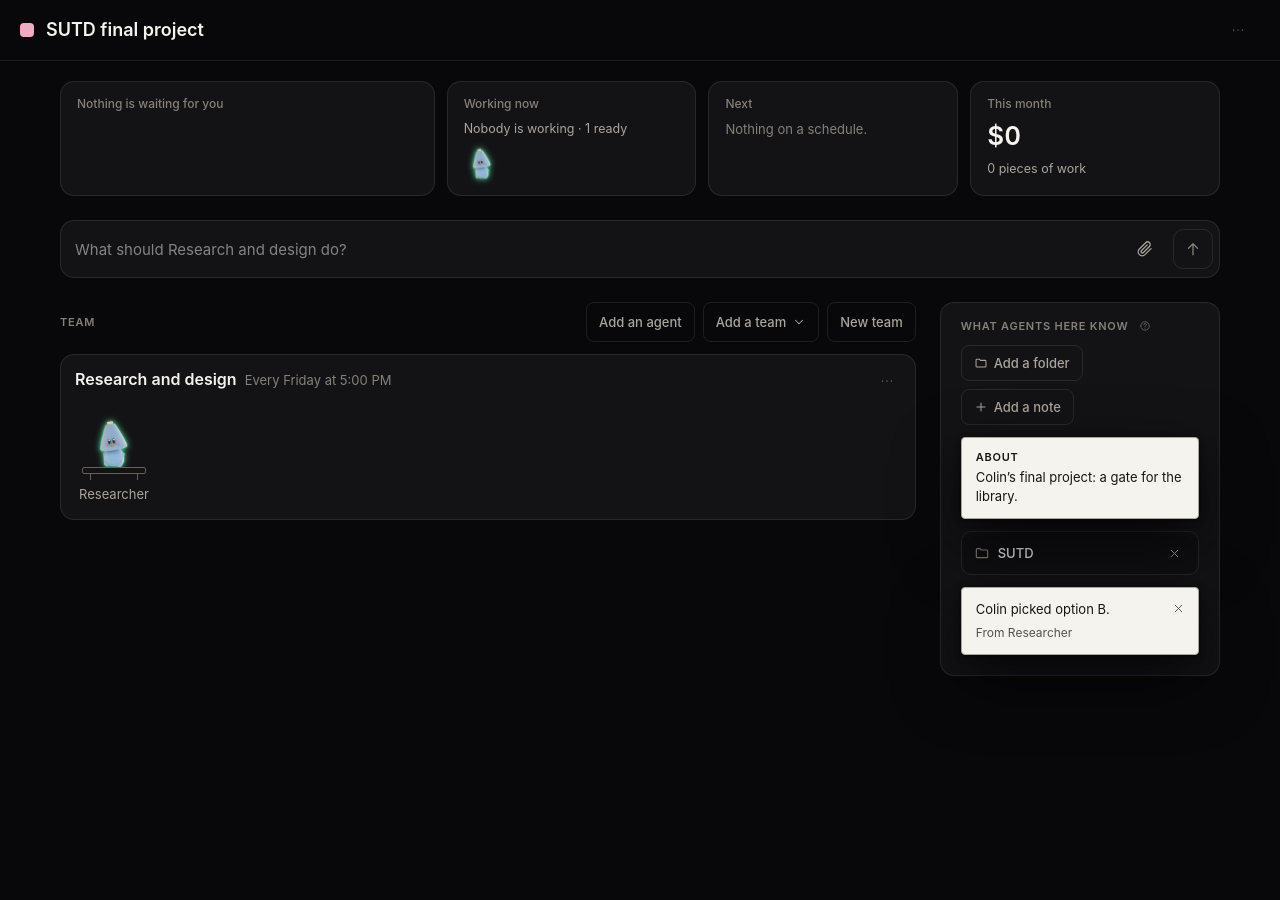
Test: a project’s room (ADR 0097) › adds one of your teams to this project: one in another project gets a place here, one in none moves in
The image size is (1280, 900).
Click the button "Add a team": {"x": 761, "y": 322} [703,302,819,342]
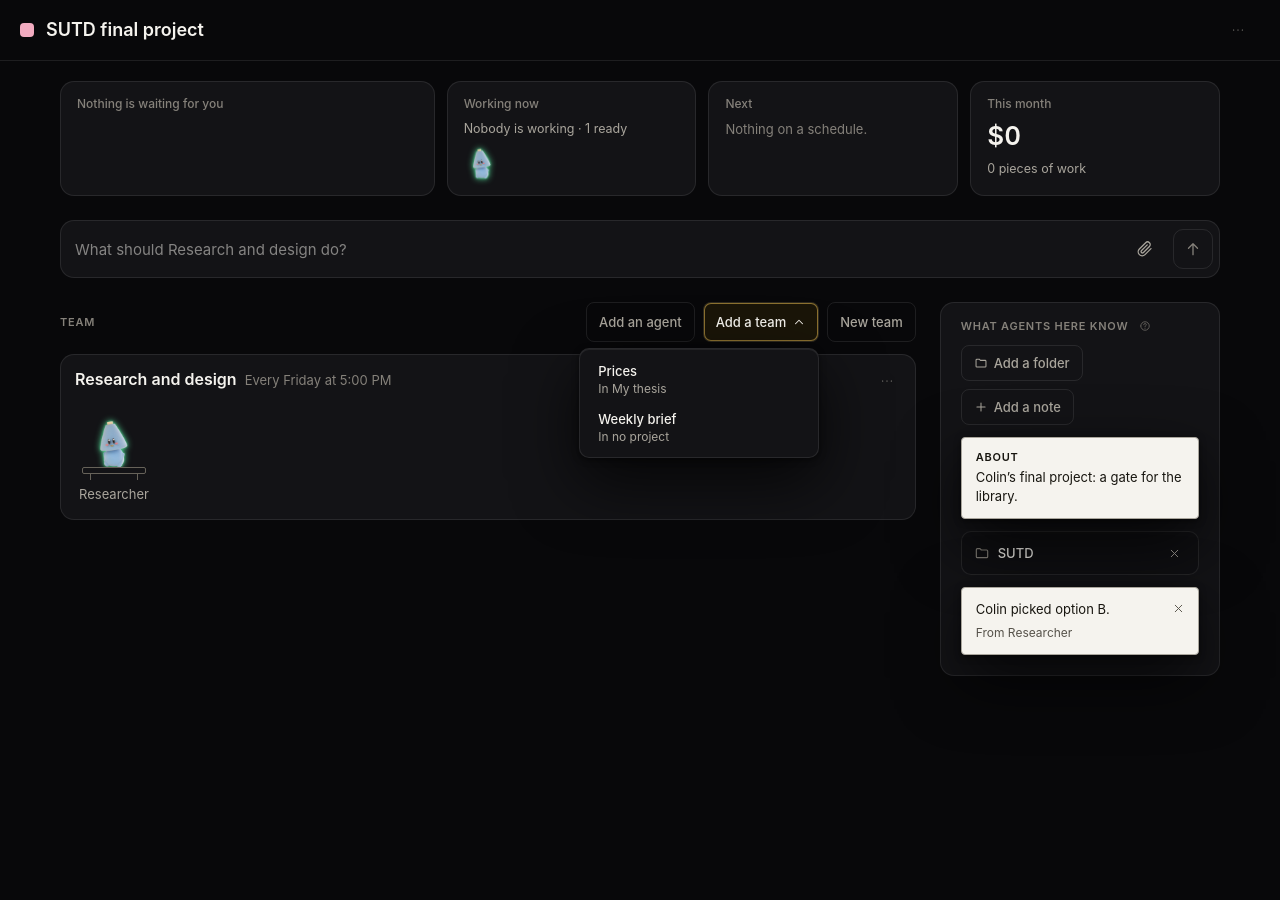
Result: the menu items read "PricesIn My thesis", "Weekly briefIn no project", in this order
Click the menu item "Prices In My thesis": {"x": 699, "y": 379} [586,355,812,403]
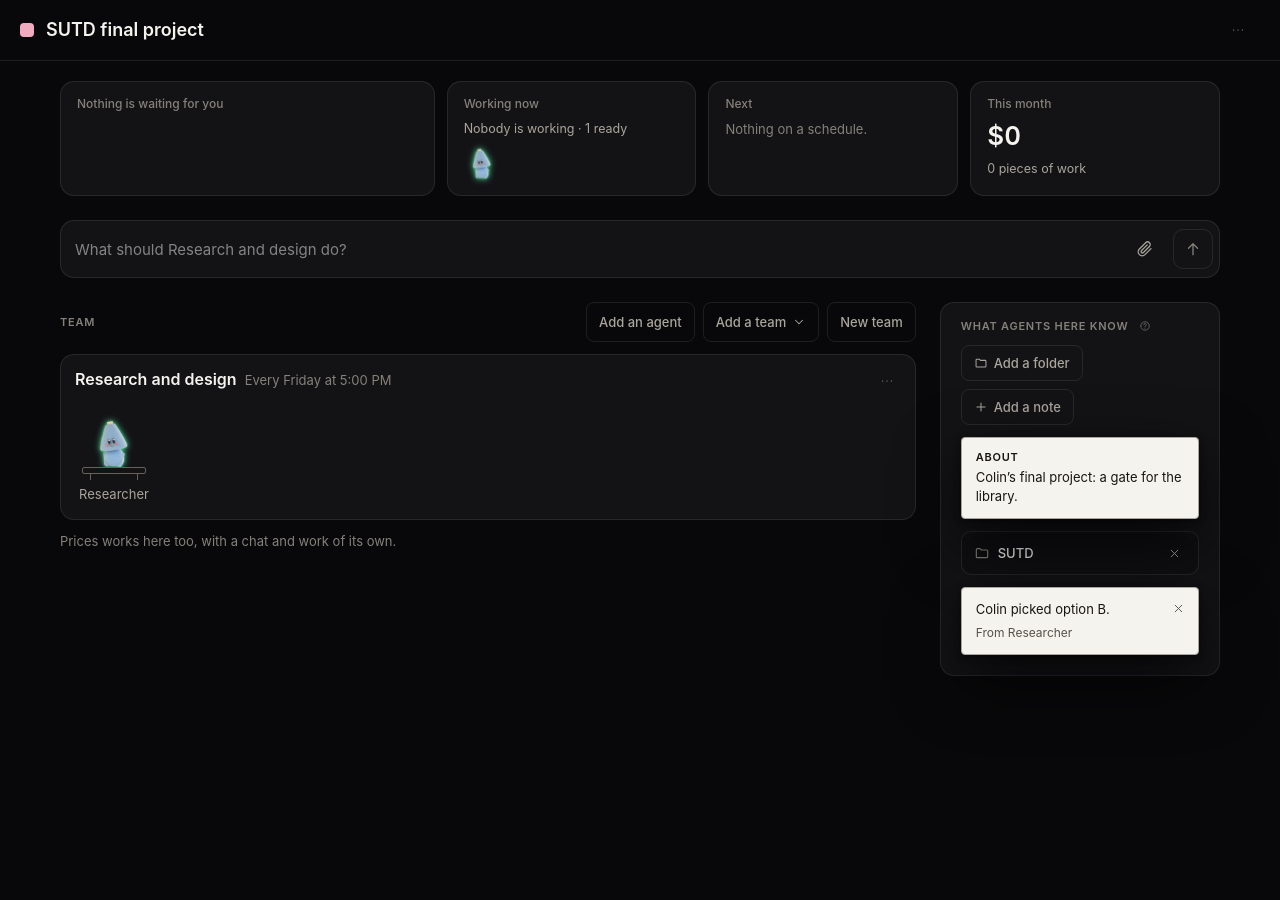
Result: the message reads "Prices works here too, with a chat and work of its own." at [60,532,396,548]
Click the button "Add a team": {"x": 761, "y": 322} [703,302,819,342]
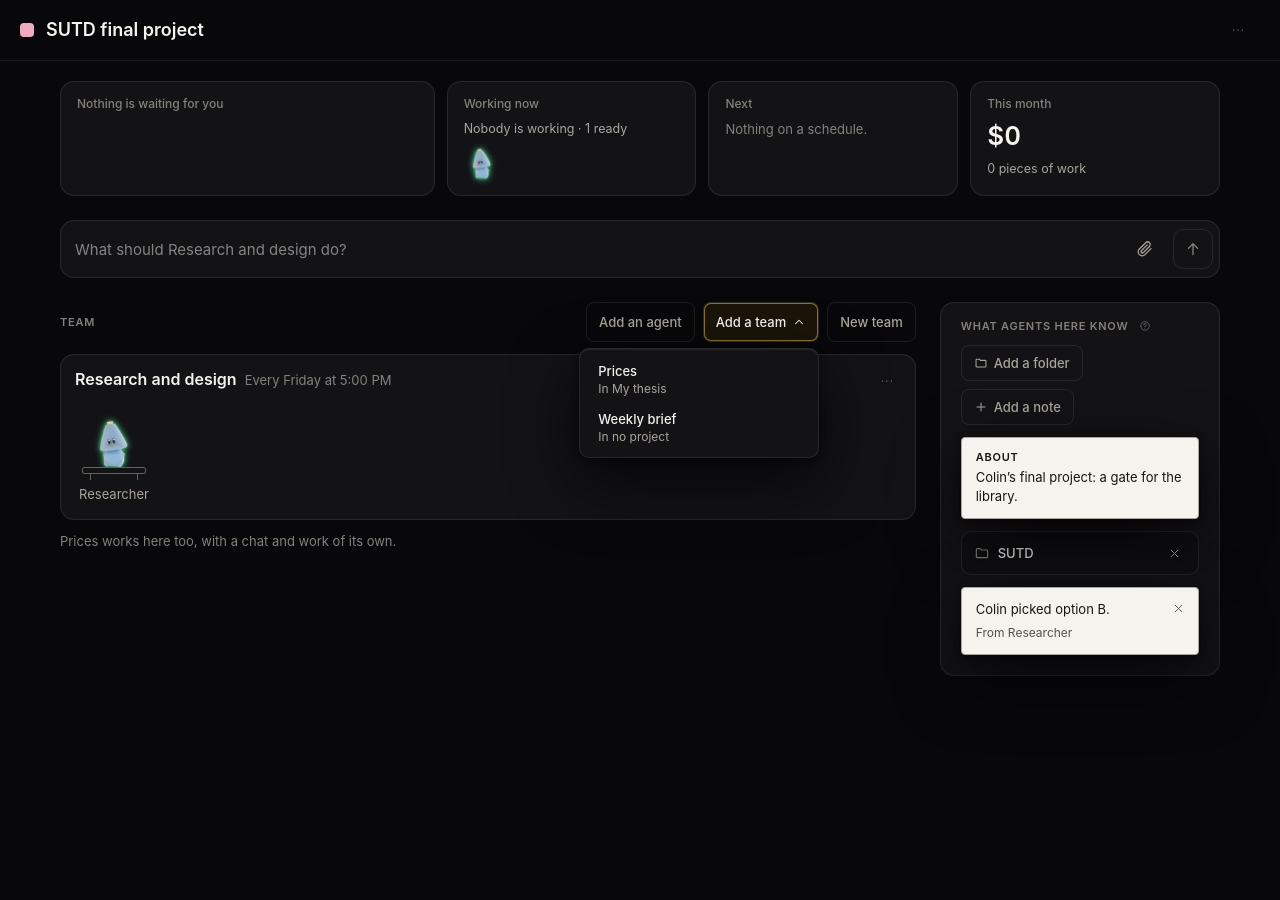
Click the menu item "Weekly brief In no project": {"x": 699, "y": 427} [586,403,812,451]
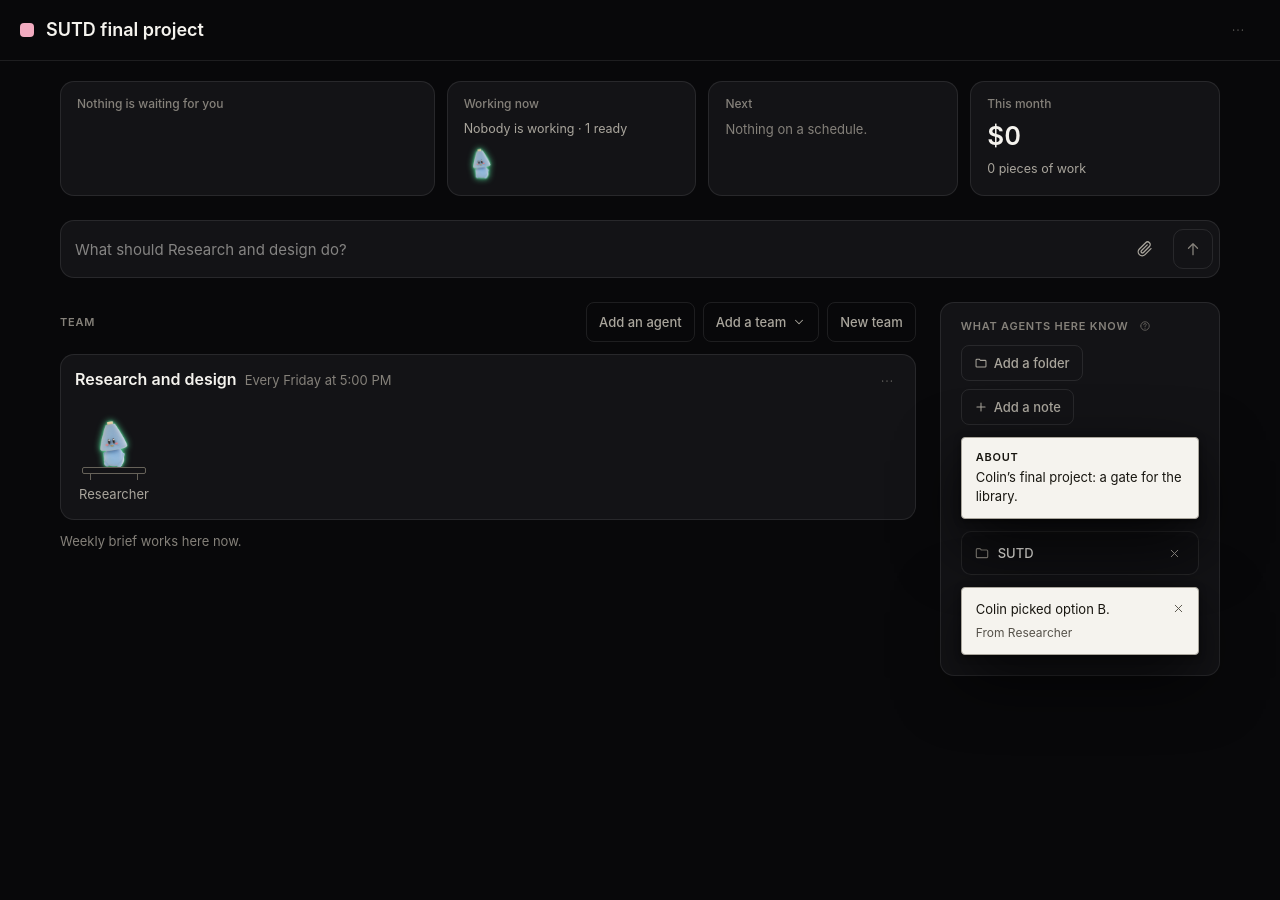
Result: the text "Weekly brief works here now." is shown at [60,532,242,548]
